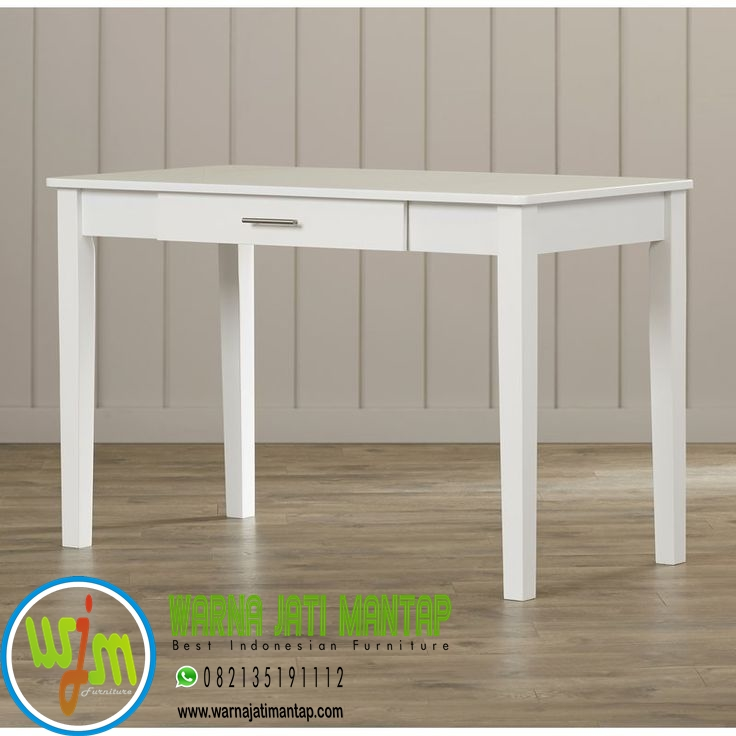Carving Table: (30, 154, 716, 606)
